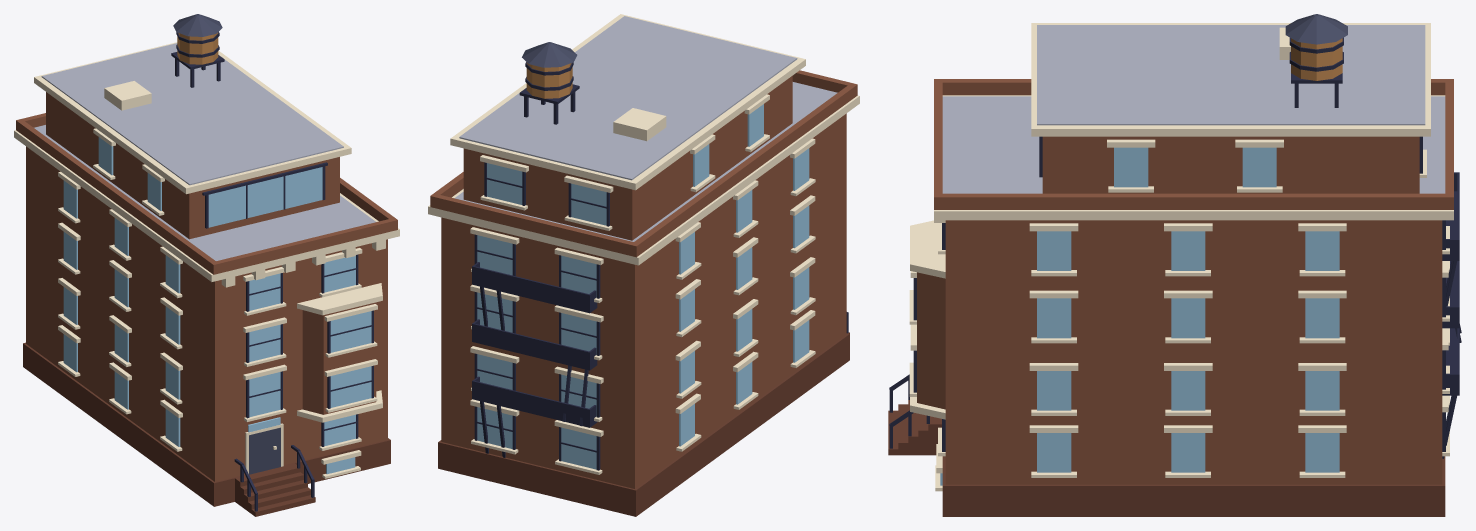
Rendered from house-1x2-5f-brownstone-a.glb.
3 renders of one model, left to right at view 1: azimuth 30°, elevation 25°; view 2: azimuth 150°, elevation 25°; view 3: azimuth 270°, elevation 25°, orthographic. The views are drawn at different scales.
Visible parts, largest first — view 1: house-1x2-5f-brownstone-a; view 2: house-1x2-5f-brownstone-a; view 3: house-1x2-5f-brownstone-a.
Boxes of the visible parts, x1=… form: house-1x2-5f-brownstone-a: x1=14, y1=14, x2=399, y2=516; house-1x2-5f-brownstone-a: x1=428, y1=14, x2=859, y2=516; house-1x2-5f-brownstone-a: x1=888, y1=14, x2=1461, y2=516.
Bounding box in the file's own units: 1 × 1.81 × 2.01.
1 material, 1 textured.
